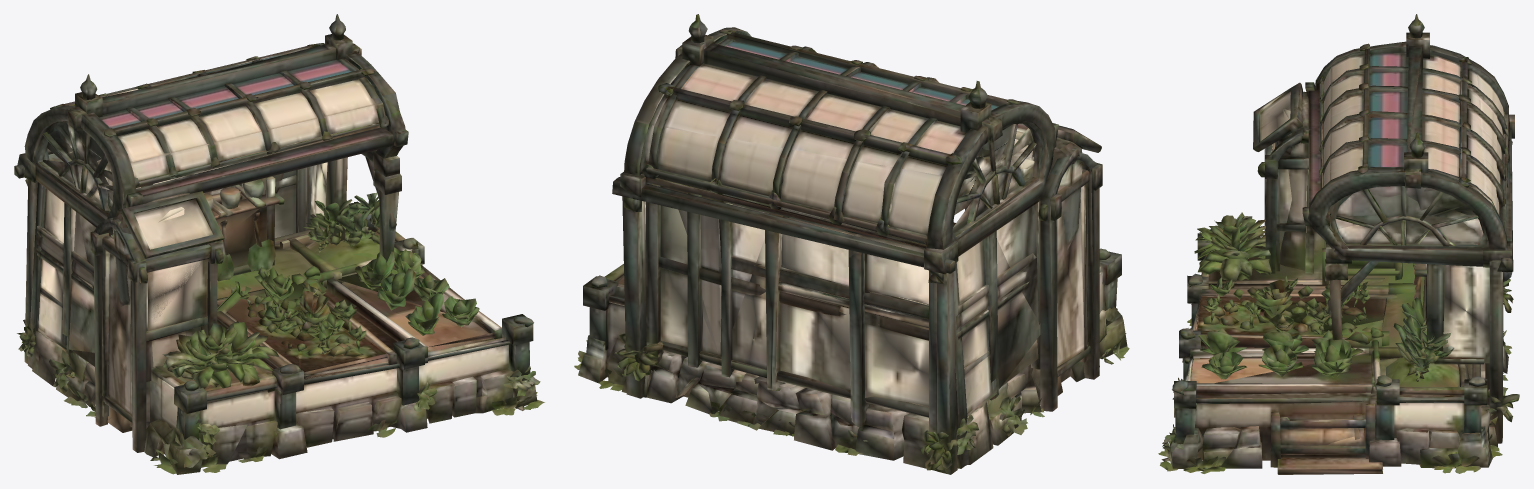
Rendered from shelter_t3_garden.glb.
3 renders of one model, left to right at view 1: azimuth 30°, elevation 25°; view 2: azimuth 150°, elevation 25°; view 3: azimuth 270°, elevation 25°, orthographic. The views are drawn at different scales.
Bounding box in the file's own units: 0.3657 × 0.3022 × 0.3218.
Materials: 1 (1 with a texture image).
